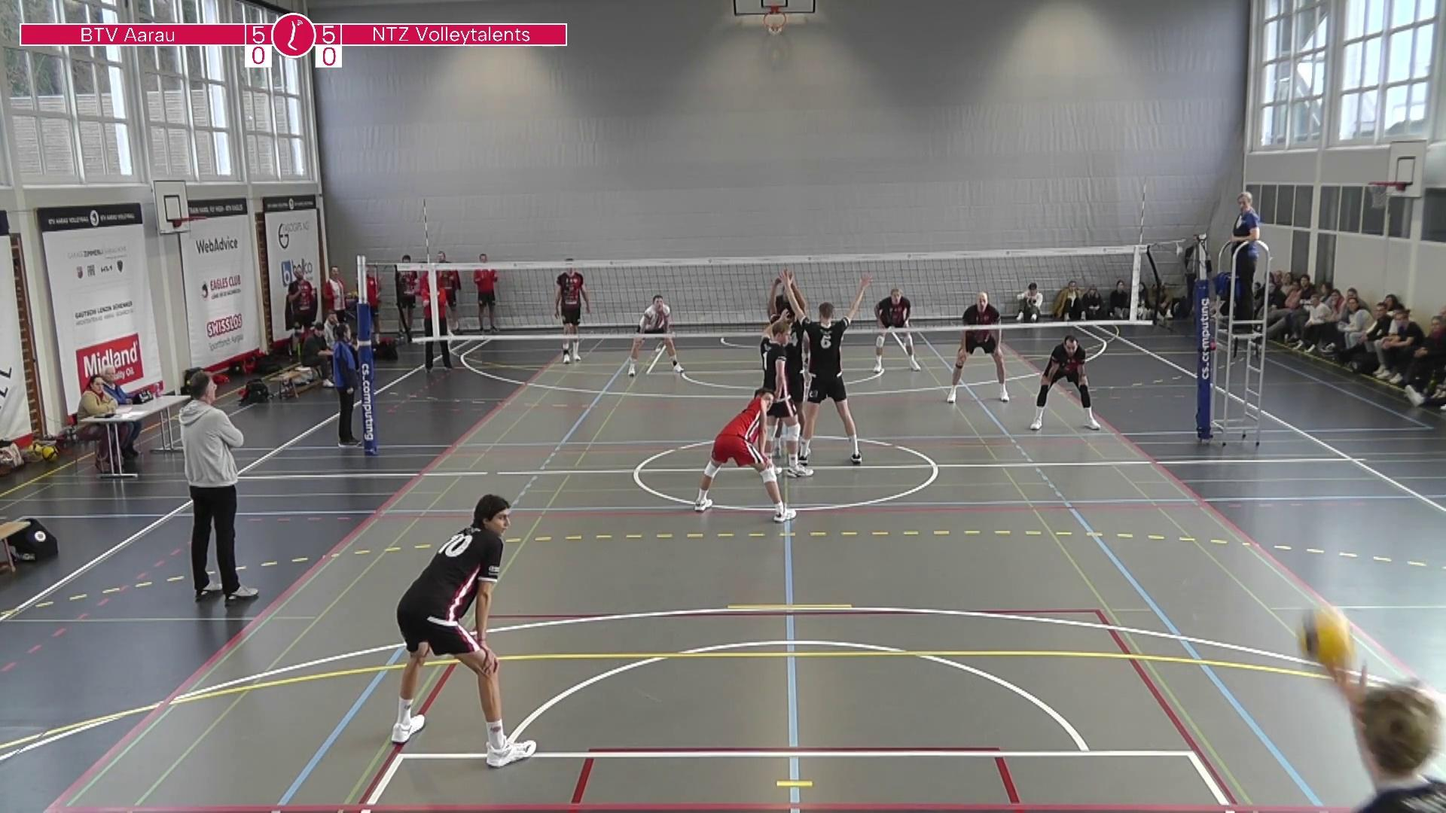Player: (392, 495, 536, 768), (1318, 661, 1444, 811), (784, 274, 868, 470), (694, 383, 795, 521), (754, 322, 815, 485), (761, 277, 807, 463), (1030, 330, 1101, 431), (946, 292, 1009, 403), (629, 294, 685, 376), (872, 285, 920, 374), (554, 260, 587, 364)
ball: (1297, 604, 1360, 678)
